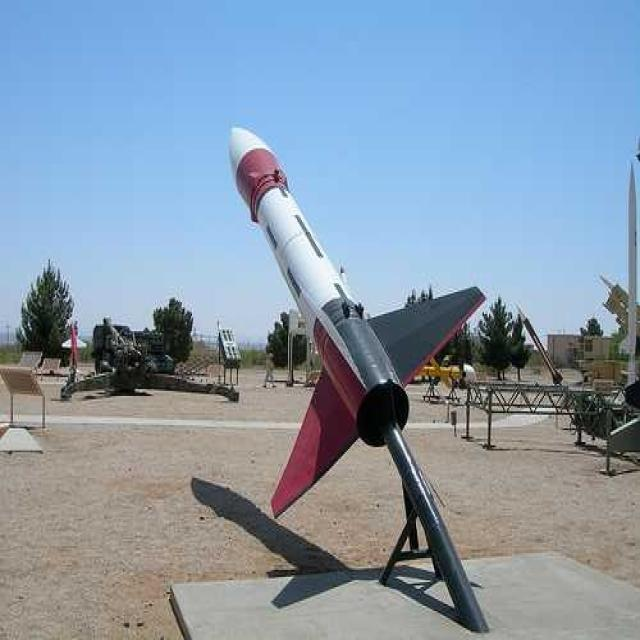missile: (224, 123, 486, 518)
